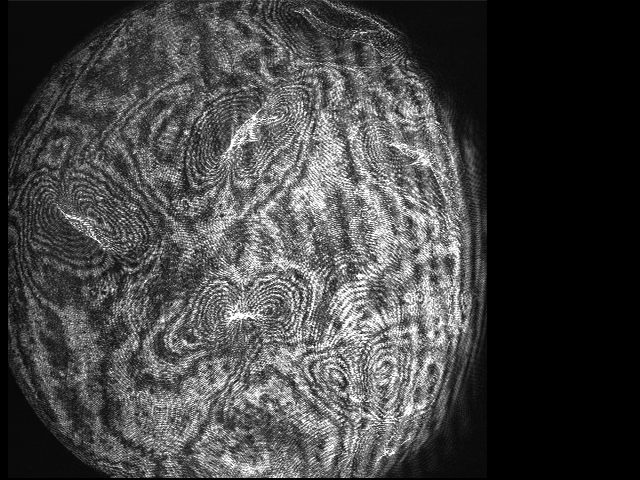plume: (177, 95, 321, 196), (17, 178, 154, 270), (187, 282, 304, 347), (306, 354, 404, 422)
